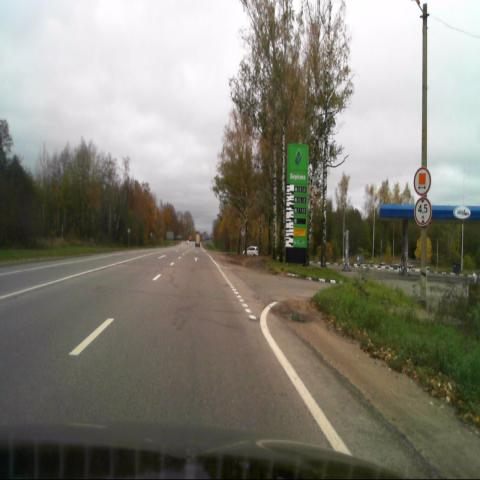3_13: (414, 197, 433, 228)
3_32: (413, 166, 432, 196)
